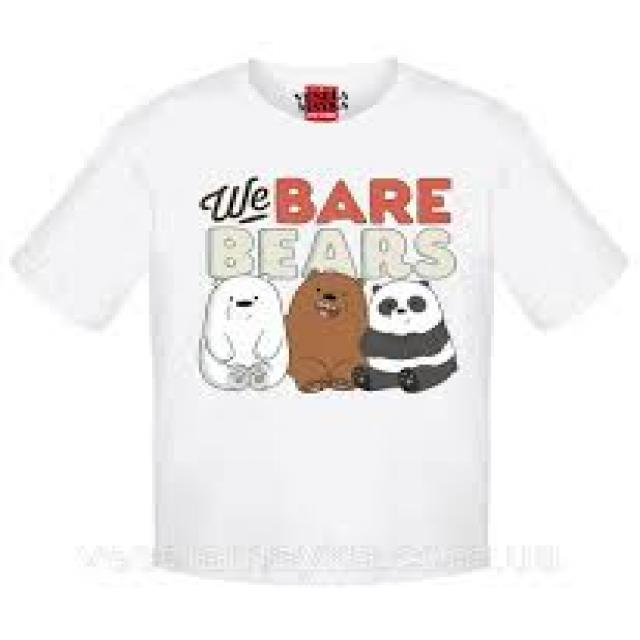Shirt: (16, 63, 623, 602)
